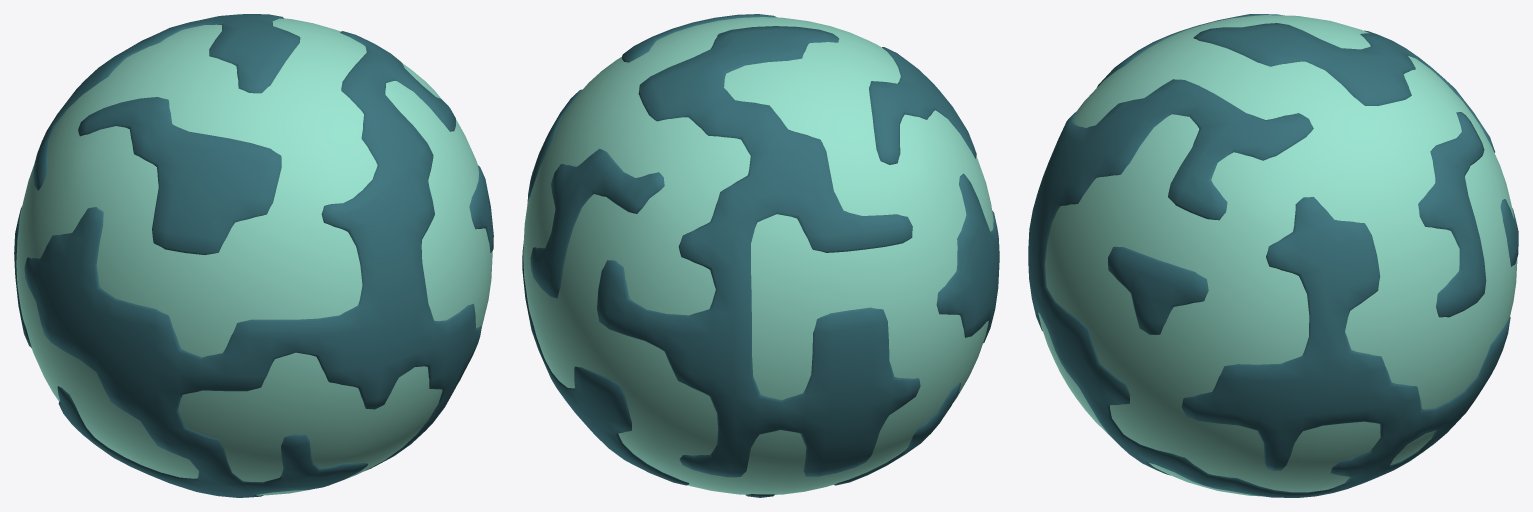
The model's file is planeta_fundo.fbx.
3 renders of one model, left to right at view 1: azimuth 30°, elevation 25°; view 2: azimuth 150°, elevation 25°; view 3: azimuth 270°, elevation 25°, orthographic.
Visible parts, largest first — view 1: Cube; view 2: Cube; view 3: Cube.
Boxes of the visible parts, <box> form: Cube: <box>14,14,493,497</box>; Cube: <box>522,14,999,497</box>; Cube: <box>1028,14,1518,497</box>.
Size of the model in its own units: 32.41 by 31.63 by 32.41.
